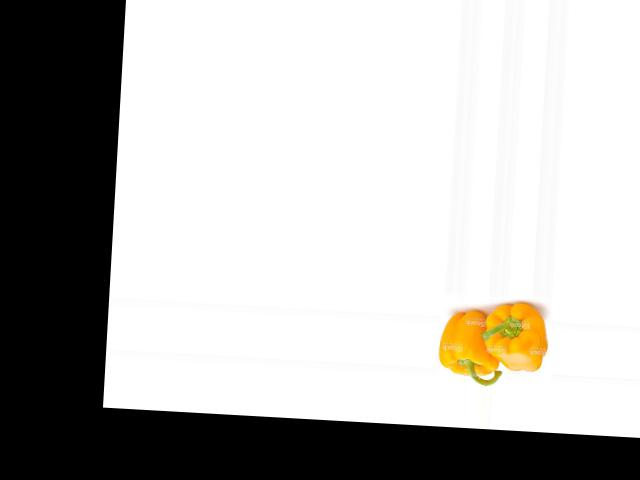bell_pepper: (436, 307, 508, 383)
